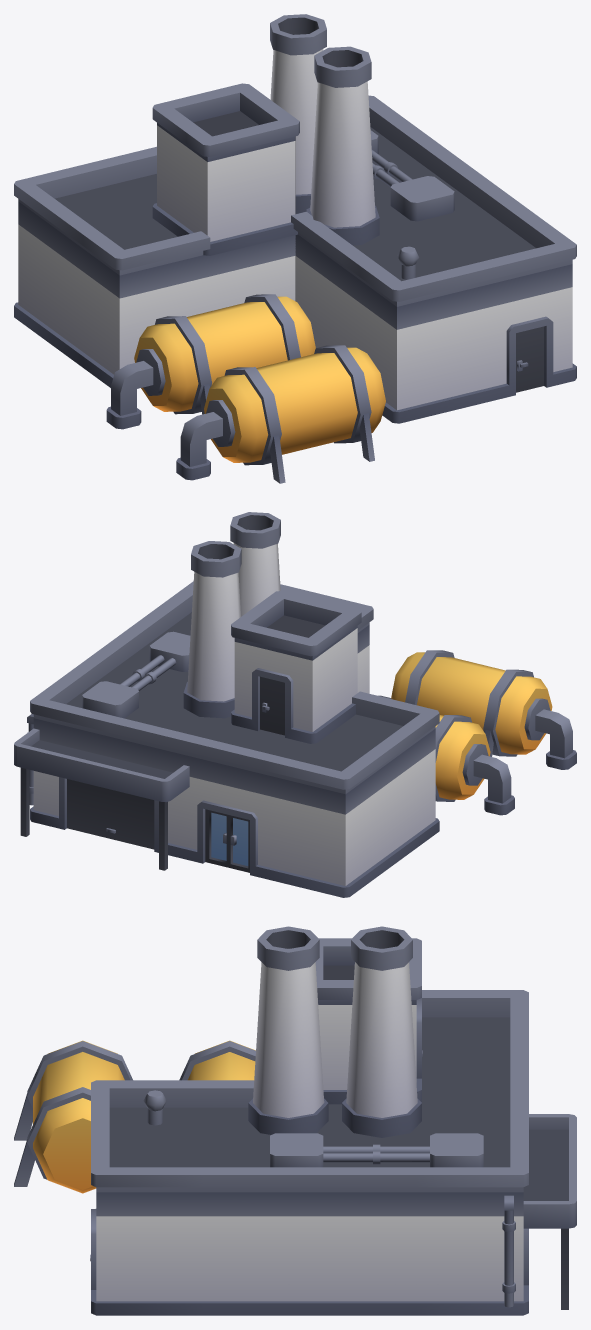
File: medium_power_plant.glb
3 renders of one model, top to bottom at view 1: azimuth 30°, elevation 25°; view 2: azimuth 150°, elevation 25°; view 3: azimuth 270°, elevation 25°, orthographic. The views are drawn at different scales.
Visible parts, largest first — view 1: building-c; view 2: building-c; view 3: building-c.
Boxes of the visible parts, x1,y1,x2,y2 form: building-c: [14, 14, 576, 483]; building-c: [14, 512, 576, 897]; building-c: [14, 926, 576, 1315].
Size of the model in its own units: 1.88 by 1.25 by 2.11.
1 material, 1 textured.
